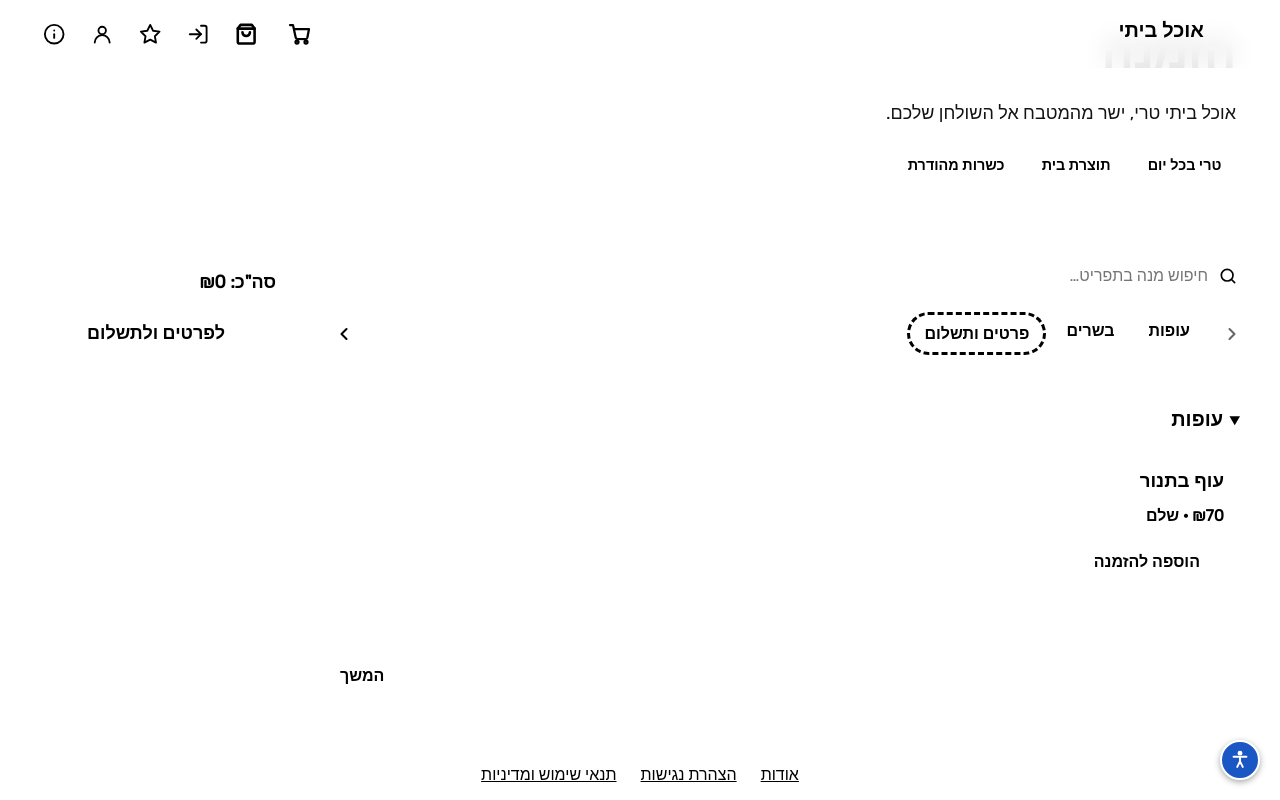
Order flow by category steps › goes on with the footer button, and to the details from the side total
(page scrolled)
Expected: the navigation bar named "שלבי ההזמנה" is shown, [324, 312, 1252, 355]
Click the button "המשך" at (362, 675), box [320, 652, 404, 698]
(page scrolled)
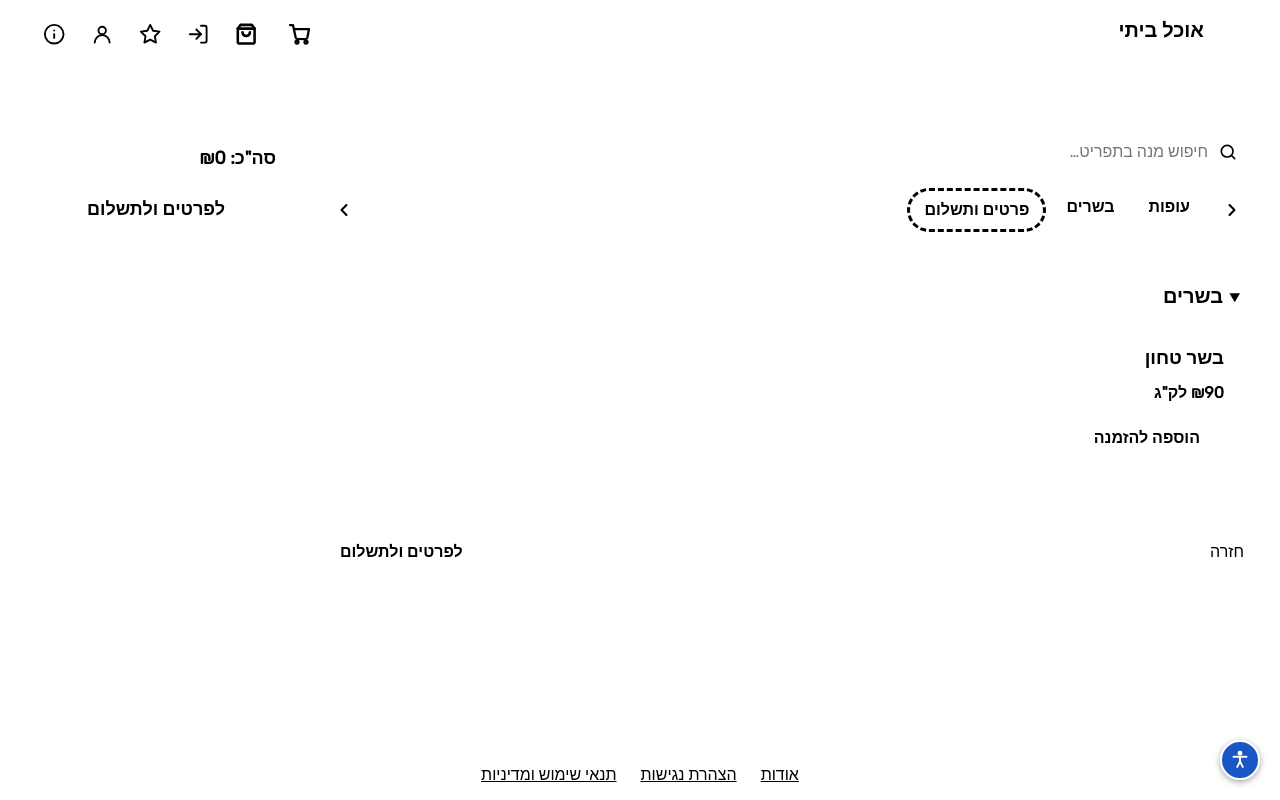
Expected: the heading "בשרים" is shown, [1163, 284, 1223, 308]
Click the button "לפרטים ולתשלום" below "סה\"כ" at (156, 209), box [36, 185, 276, 234]
(page scrolled)
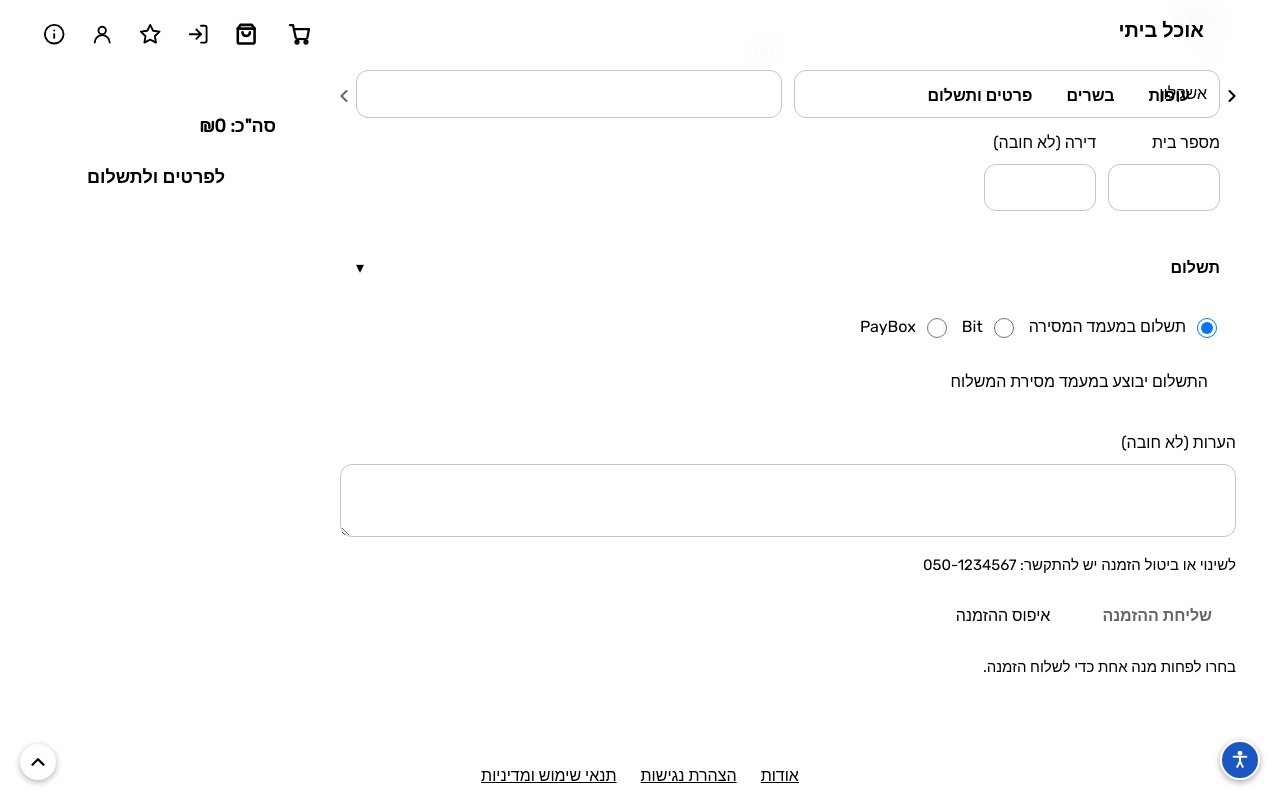
Expected: the button "שליחת ההזמנה" is shown, [1082, 593, 1232, 639]
